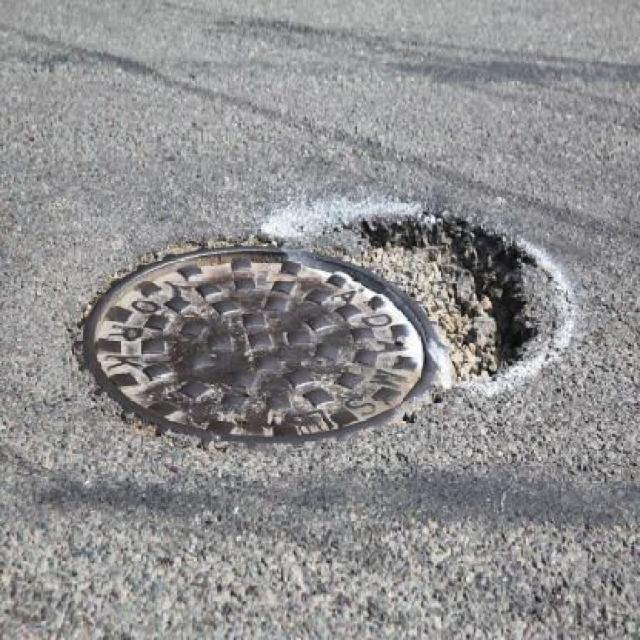Manhole: (70, 236, 447, 454)
Pothole: (448, 192, 580, 388)
